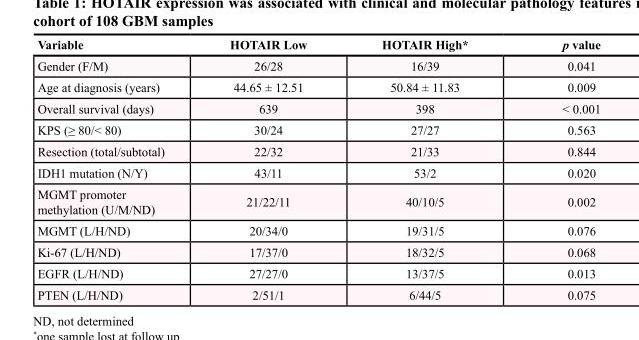table: (36, 37, 600, 301)
table column: (343, 37, 514, 301), (36, 37, 196, 301), (196, 37, 343, 301), (514, 37, 600, 301)
table column header: (36, 37, 600, 54)
table row: (36, 183, 600, 219), (36, 54, 600, 76), (36, 118, 600, 140), (36, 161, 600, 183), (36, 240, 600, 262), (36, 76, 600, 97), (36, 97, 600, 118), (36, 140, 600, 161), (36, 219, 600, 240), (36, 262, 600, 283), (36, 283, 600, 301), (36, 37, 600, 54)
